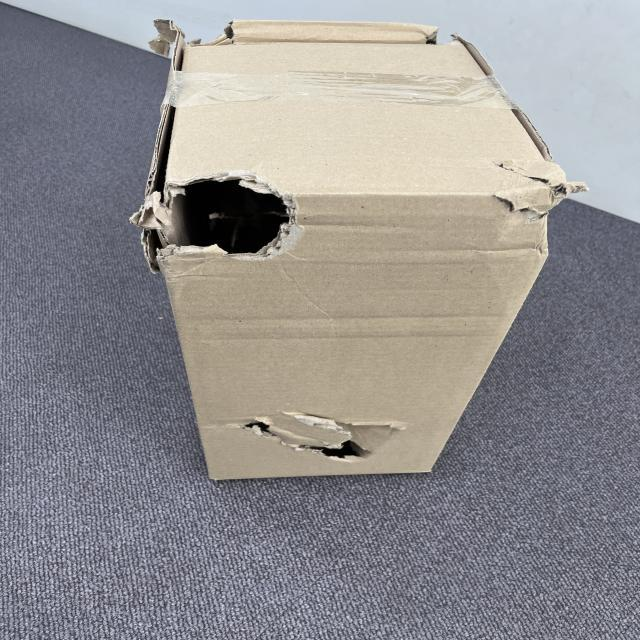hole: (153, 173, 295, 256), (244, 418, 372, 461)
